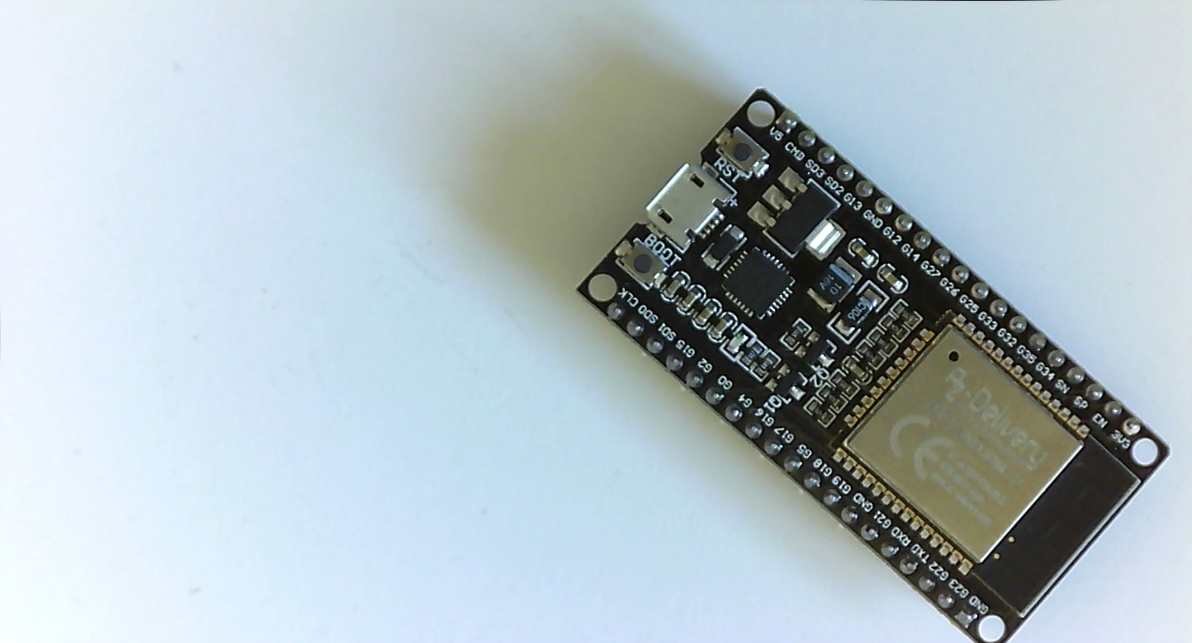IC: (859, 333, 1064, 544), (762, 172, 842, 255), (724, 250, 789, 316), (769, 367, 810, 404), (698, 233, 745, 265), (799, 334, 834, 373)
LED: (728, 325, 748, 359)
capacitor: (849, 235, 877, 272), (879, 260, 903, 301), (839, 355, 872, 378), (693, 299, 716, 330), (662, 270, 685, 301), (711, 314, 732, 342), (681, 287, 699, 314)
connector: (548, 440, 1045, 479), (707, 257, 1192, 292), (641, 172, 730, 236)
diode: (818, 259, 850, 312)
resistor: (805, 402, 834, 419), (781, 326, 810, 342), (823, 383, 839, 412), (737, 346, 765, 362), (758, 352, 774, 378), (835, 372, 851, 398), (868, 333, 893, 349), (898, 302, 914, 326), (886, 314, 901, 339), (863, 342, 875, 367)
switch: (619, 232, 658, 289), (726, 124, 762, 178)
transistor: (848, 281, 871, 339)
